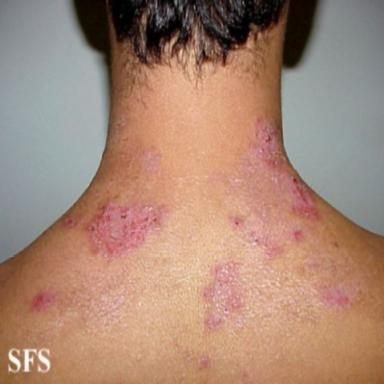Hailey-Hailey-Disease: (229, 119, 319, 257), (87, 203, 168, 258), (202, 262, 245, 330), (319, 284, 359, 309), (31, 291, 55, 312)
